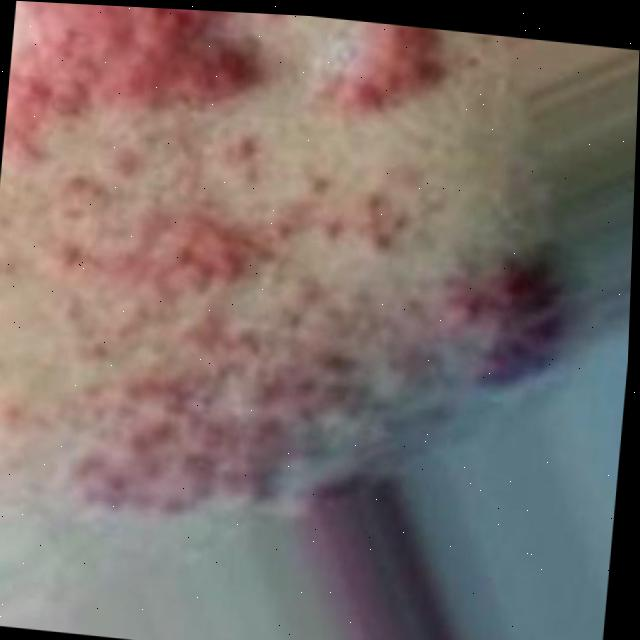Shingles: (92, 169, 392, 520), (24, 1, 240, 132), (310, 16, 455, 124), (447, 244, 554, 383)
